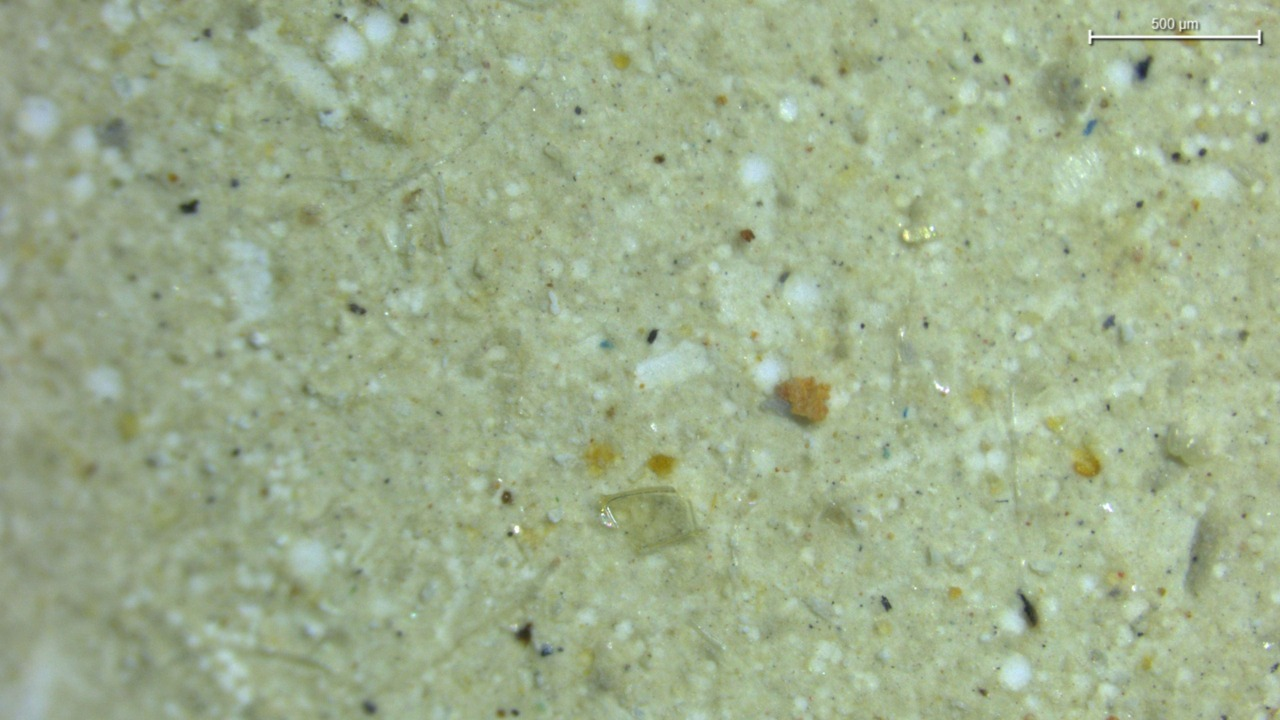microplastic_fragment: (600, 486, 700, 554), (776, 377, 831, 423), (900, 226, 936, 244)
